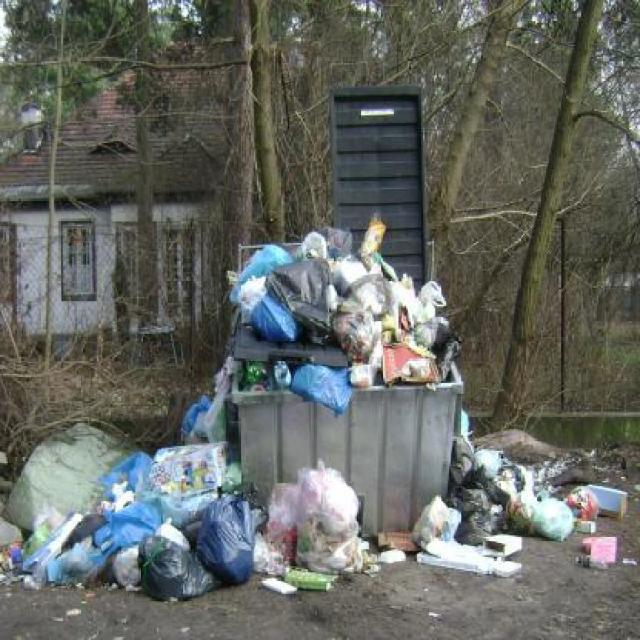garbage: (15, 448, 370, 590), (242, 251, 459, 386), (413, 445, 623, 560)
